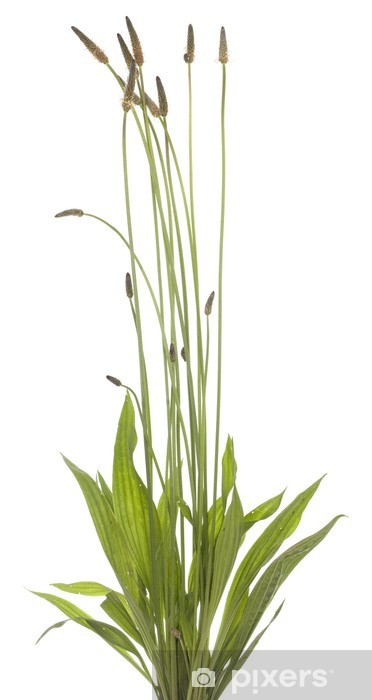buckhorn plantain: (41, 11, 326, 681)
